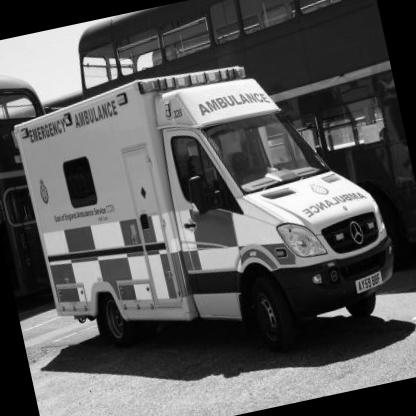ambulance: (1, 26, 414, 405)
